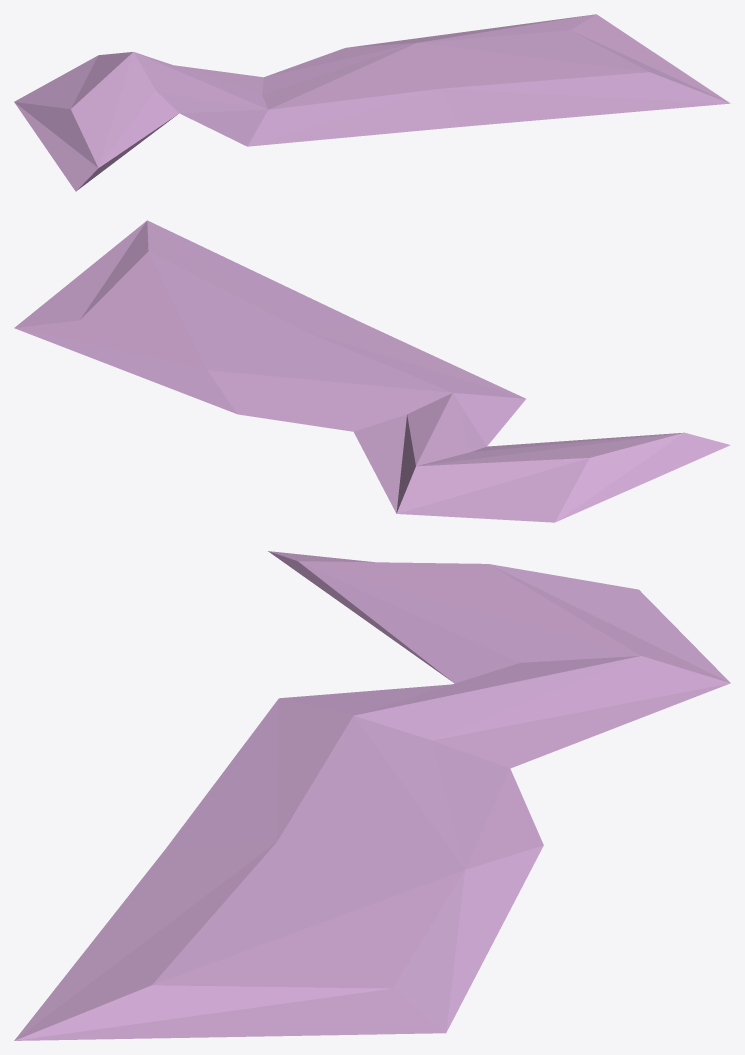
Rendered from MassiveBullet_Puddle_5.dae.
3 renders of one model, top to bottom at view 1: azimuth 30°, elevation 25°; view 2: azimuth 150°, elevation 25°; view 3: azimuth 270°, elevation 25°, orthographic. The views are drawn at different scales.
Visible parts, largest first — view 1: Cube; view 2: Cube; view 3: Cube.
Boxes of the visible parts, x1,y1,x2,y2 form: Cube: (14, 14, 730, 191); Cube: (14, 220, 730, 522); Cube: (14, 551, 730, 1040).
Size of the model in its own units: 8.84 by 5.47 by 0.3094.
